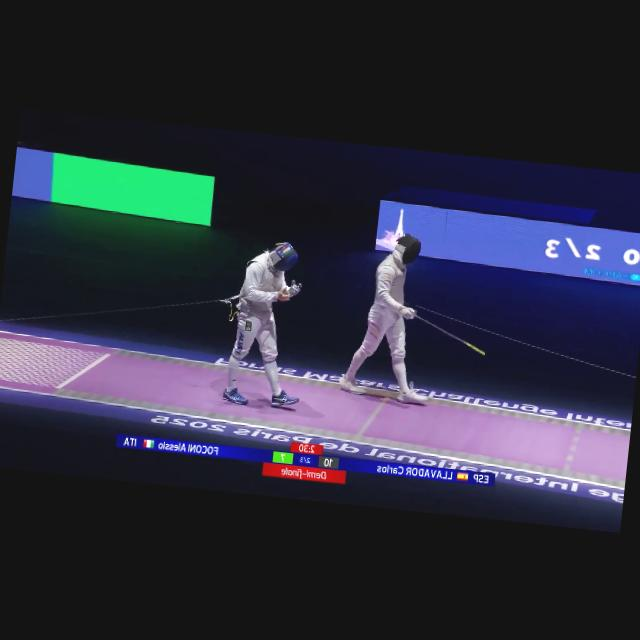blade: (401, 307, 494, 358), (235, 284, 292, 308)
